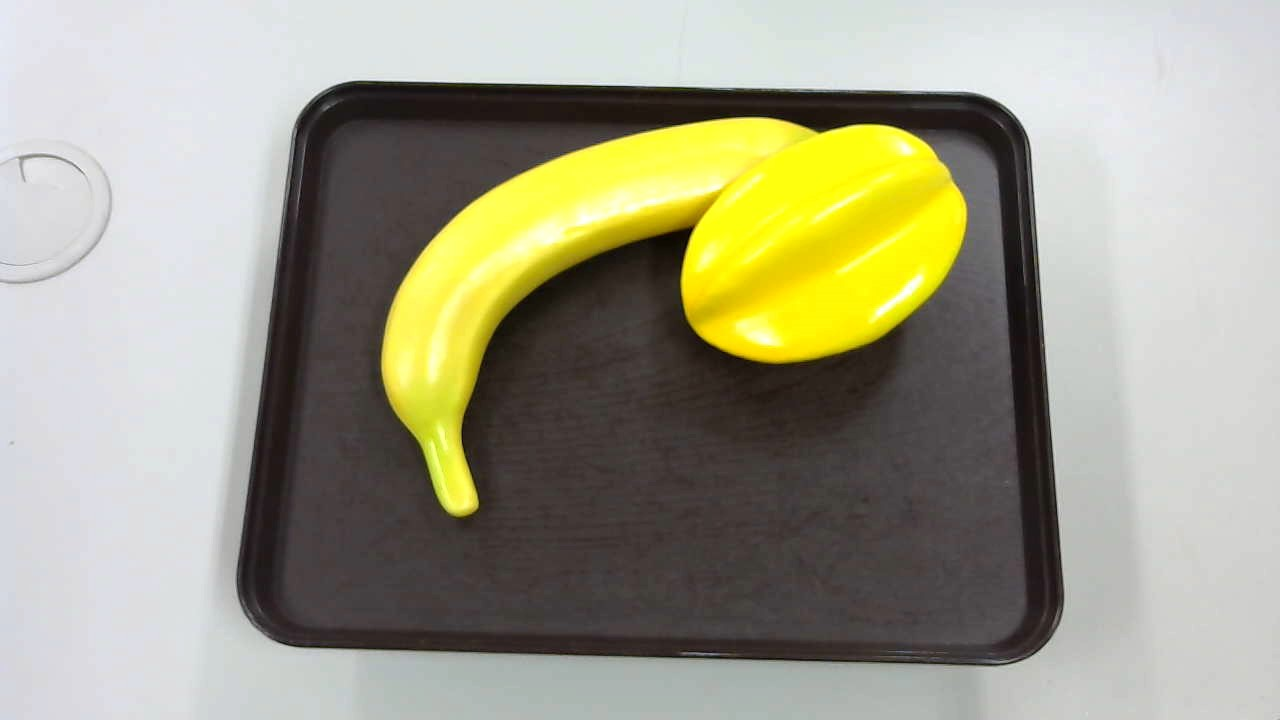banana: (373, 104, 816, 521)
star fruit: (677, 116, 970, 362)
